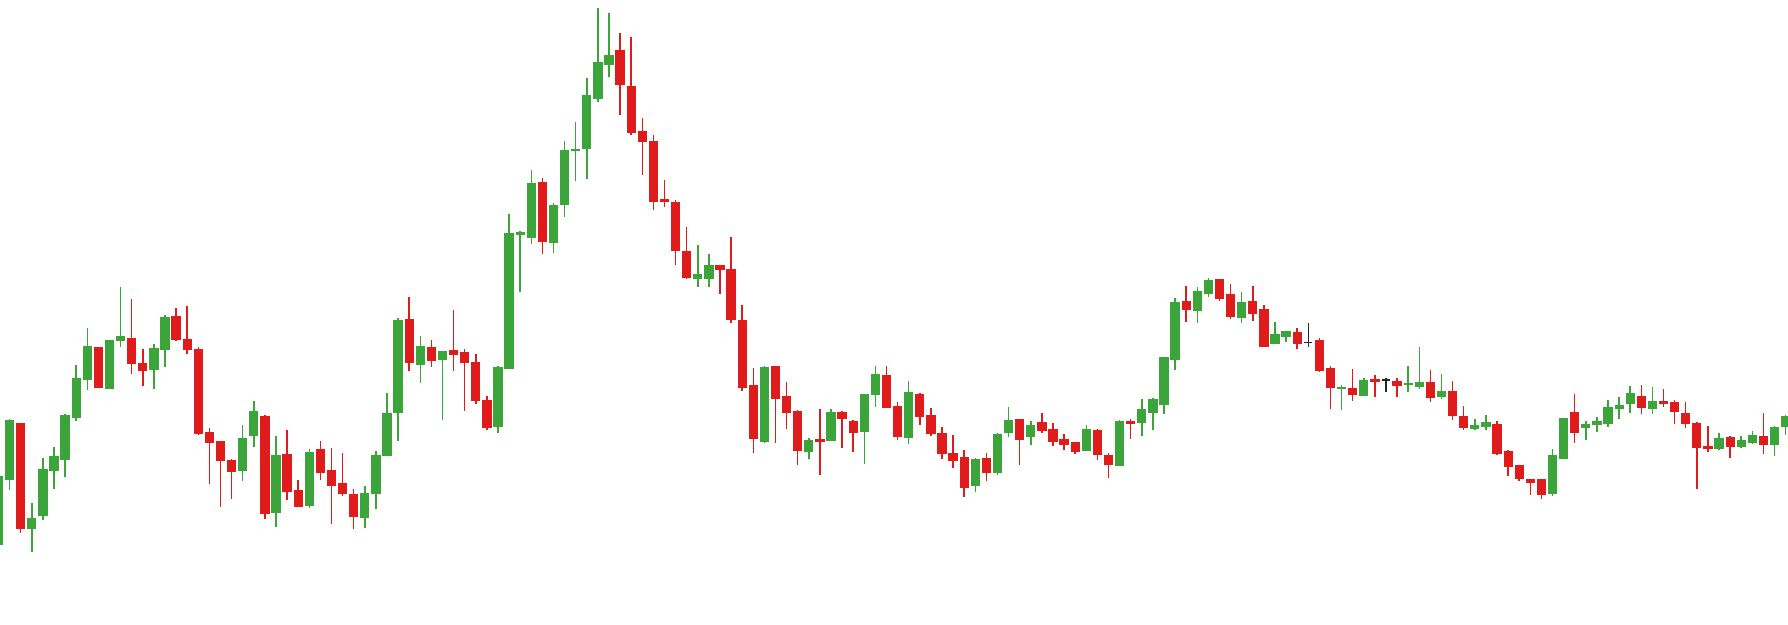buy: (848, 404, 982, 501), (434, 349, 507, 436), (213, 441, 285, 528)
